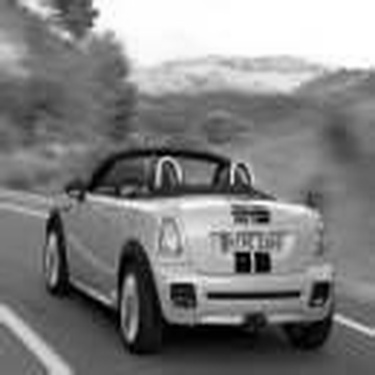car: (41, 132, 347, 353)
